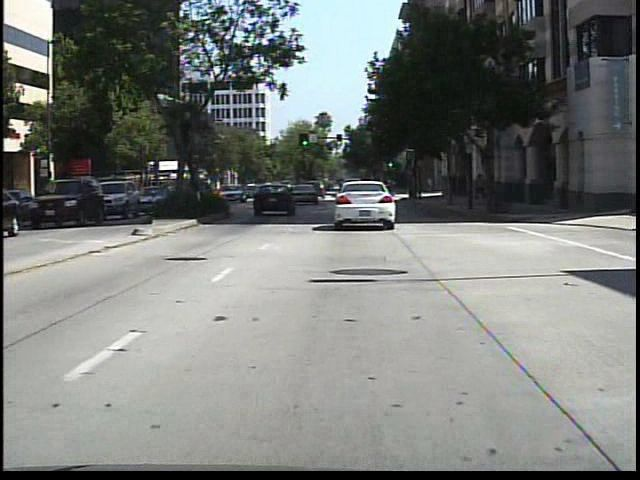person: (471, 167, 490, 210)
